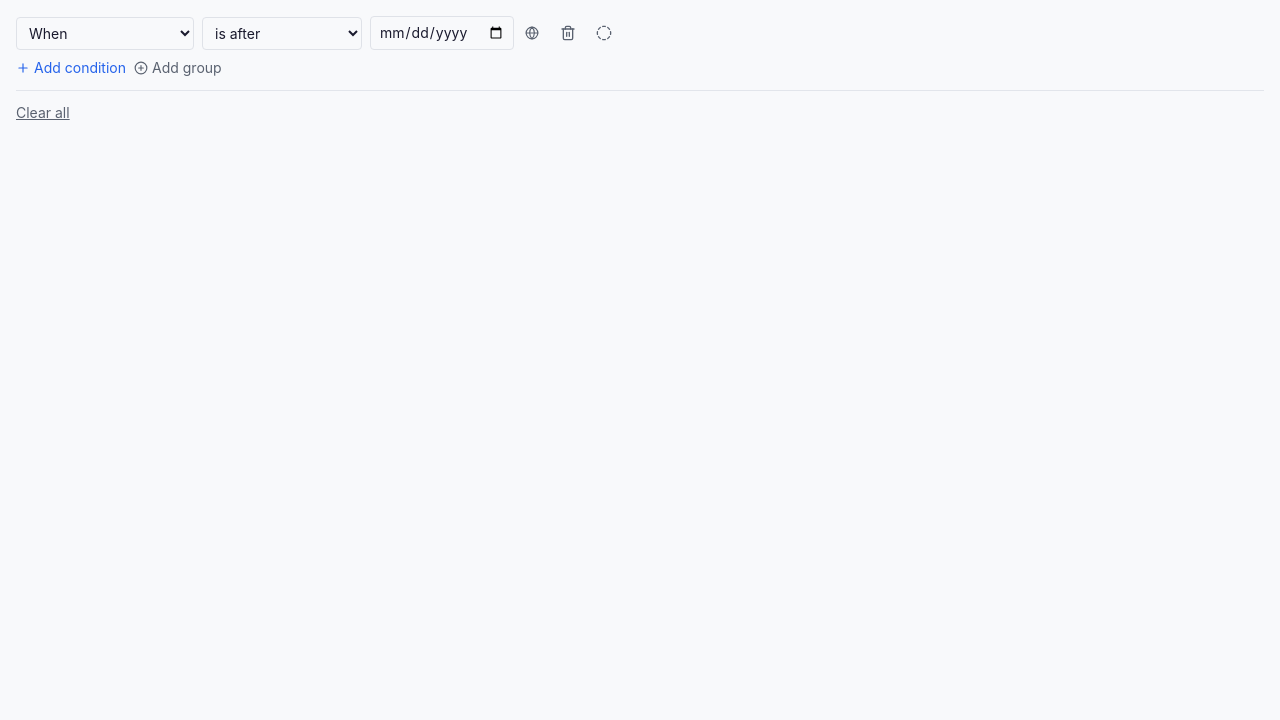
Test case: FilterBuilder › stores relative date expressions in the backend class format
Select "is relative to today" in the dropdown named "Filter operator": (282, 33) [202, 16, 362, 50]
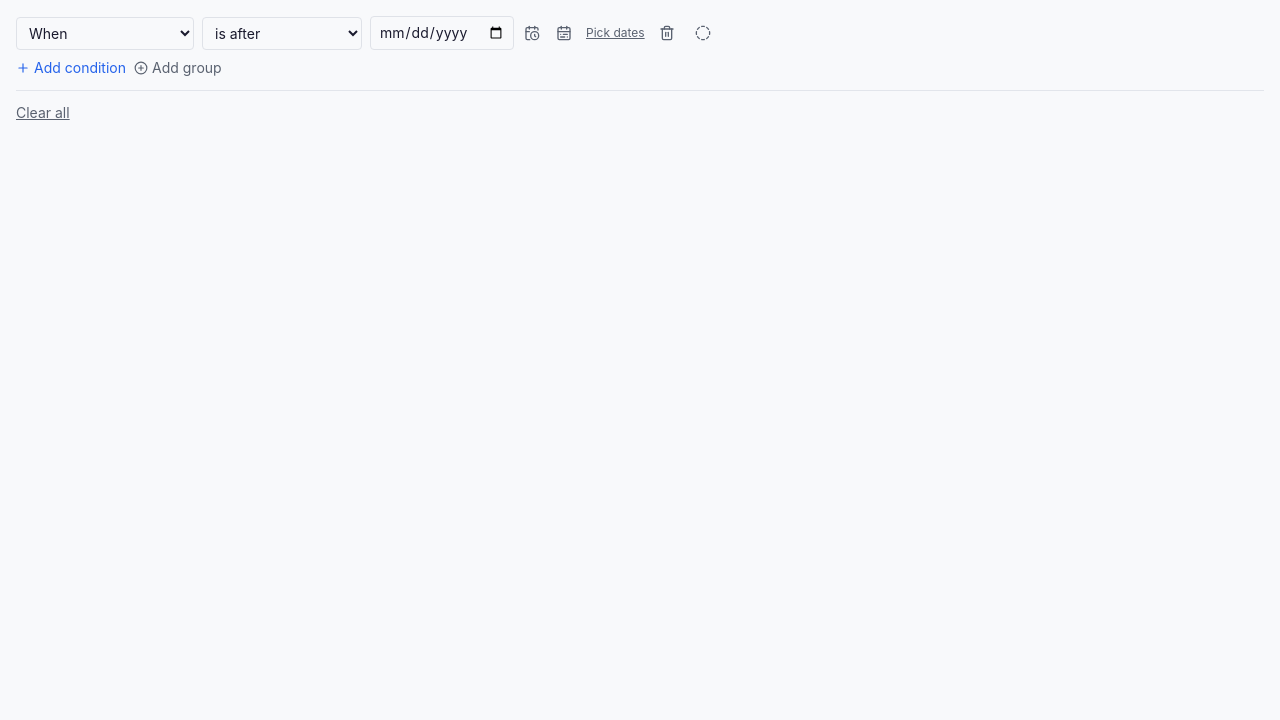
Click the button named "Relative date for When": (532, 33) [518, 19, 546, 47]
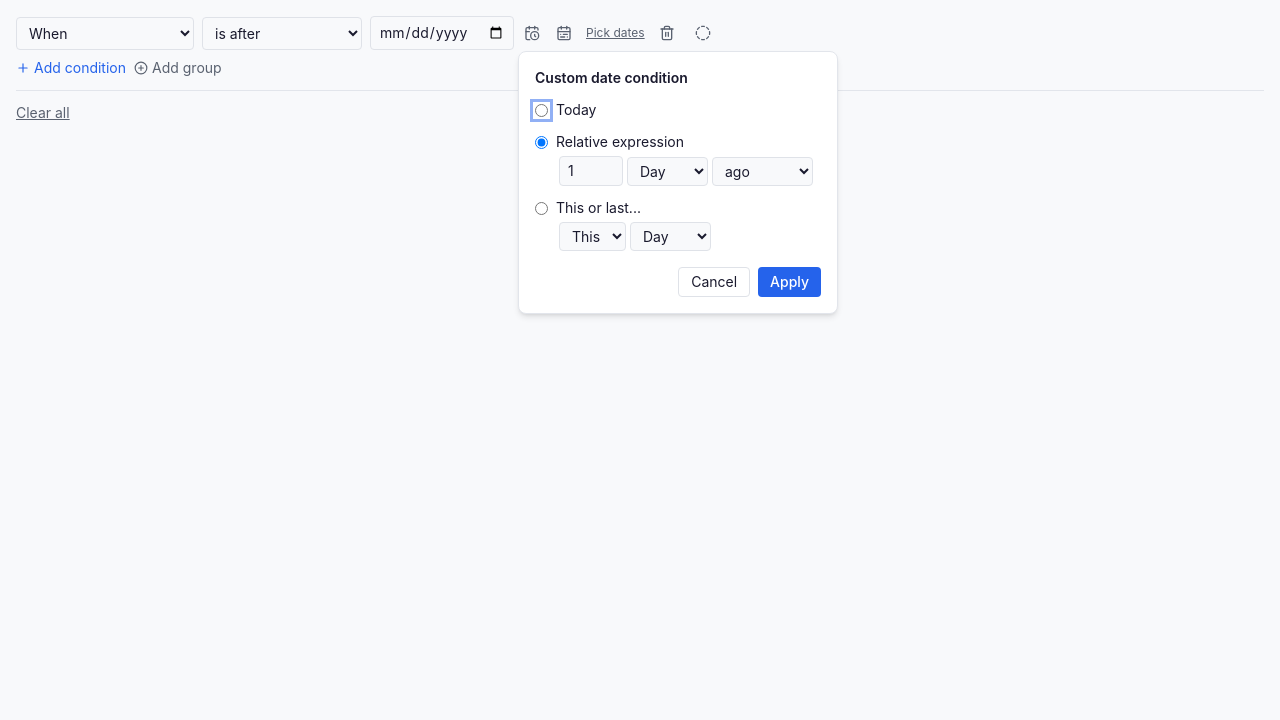
Replace the text in the number field named "Amount" with "7": (591, 171) [559, 156, 623, 186]
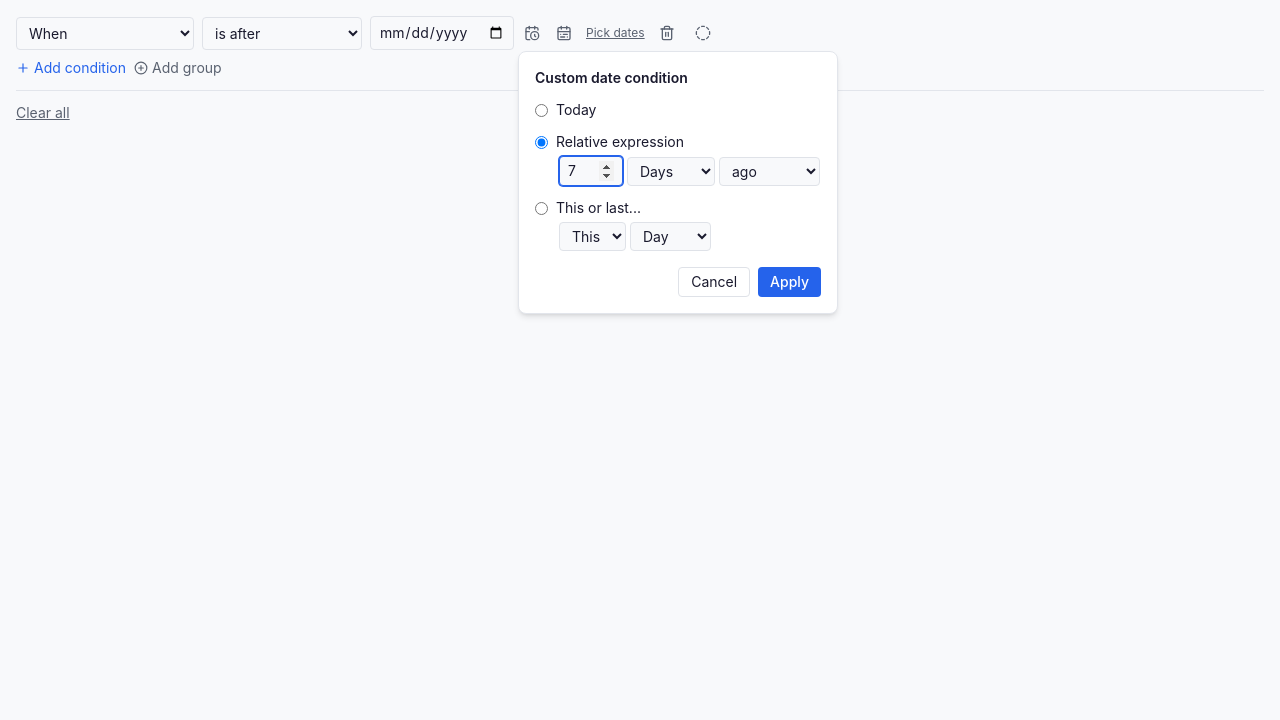
Click the button "Apply": (790, 282) [758, 267, 821, 297]
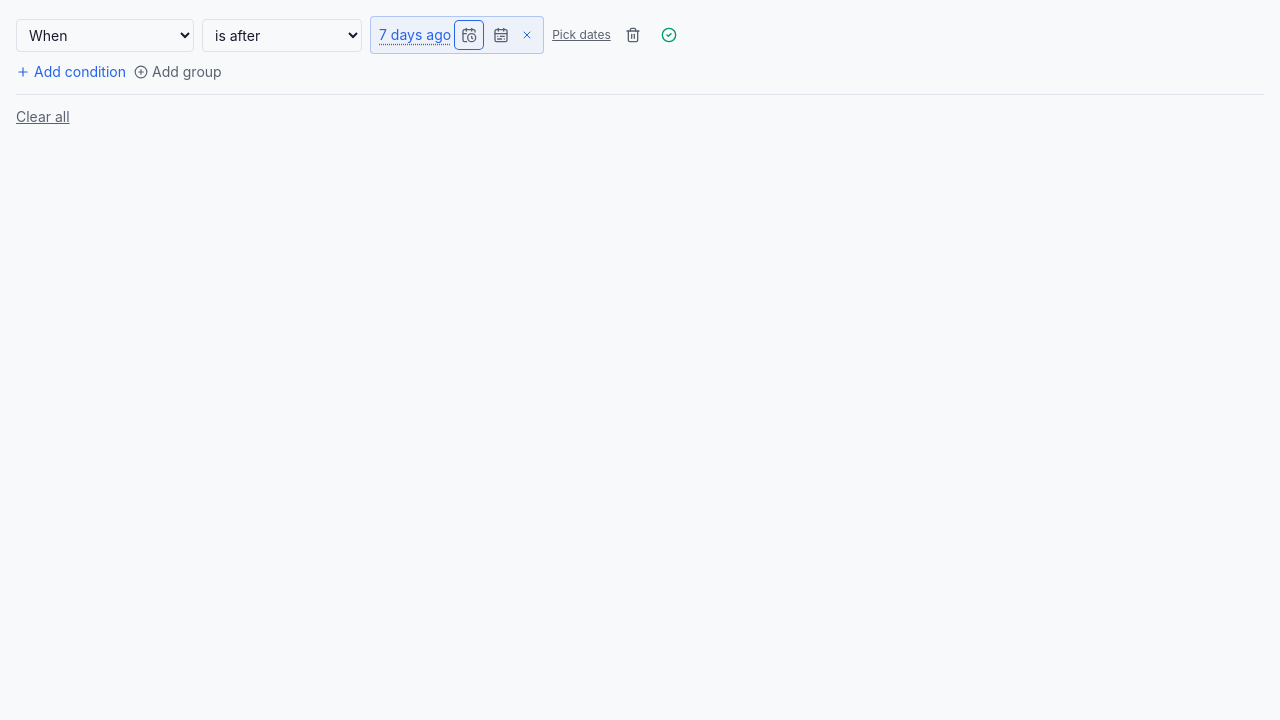
Expected: the text "7 days ago" is shown, [379, 25, 451, 45]
